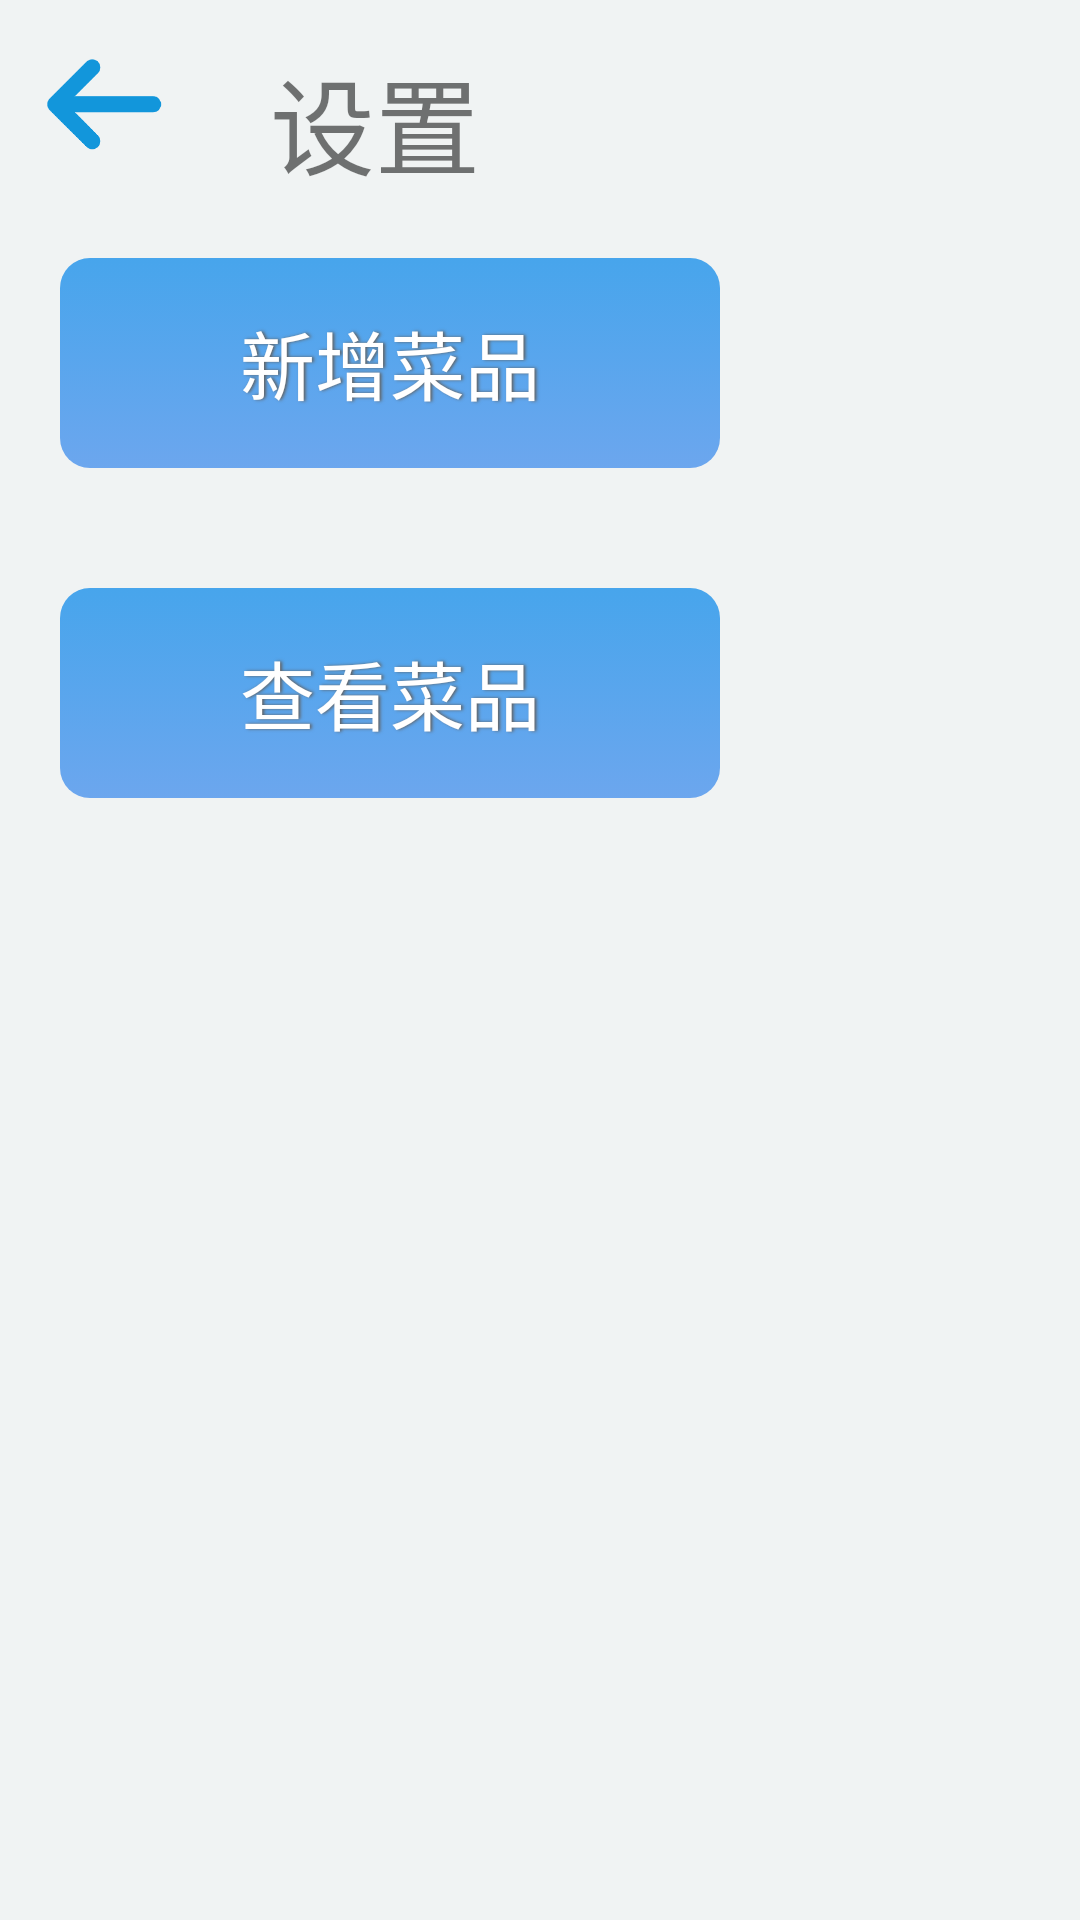

Point at icon controls on the screen. Image size 1080x1920, points as [x,y].
back: [104,104]
